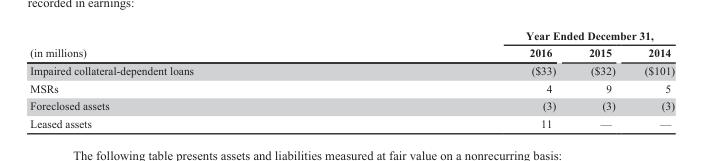table: (29, 28, 674, 129)
table column: (29, 28, 359, 129), (359, 28, 571, 129), (571, 28, 629, 129), (629, 28, 674, 129)
table column header: (29, 28, 674, 61)
table row: (29, 43, 674, 61), (29, 61, 674, 79), (29, 96, 674, 114), (29, 79, 674, 96), (29, 28, 674, 43), (29, 114, 674, 129)
table spanning cell: (29, 28, 359, 61), (359, 28, 674, 43)
